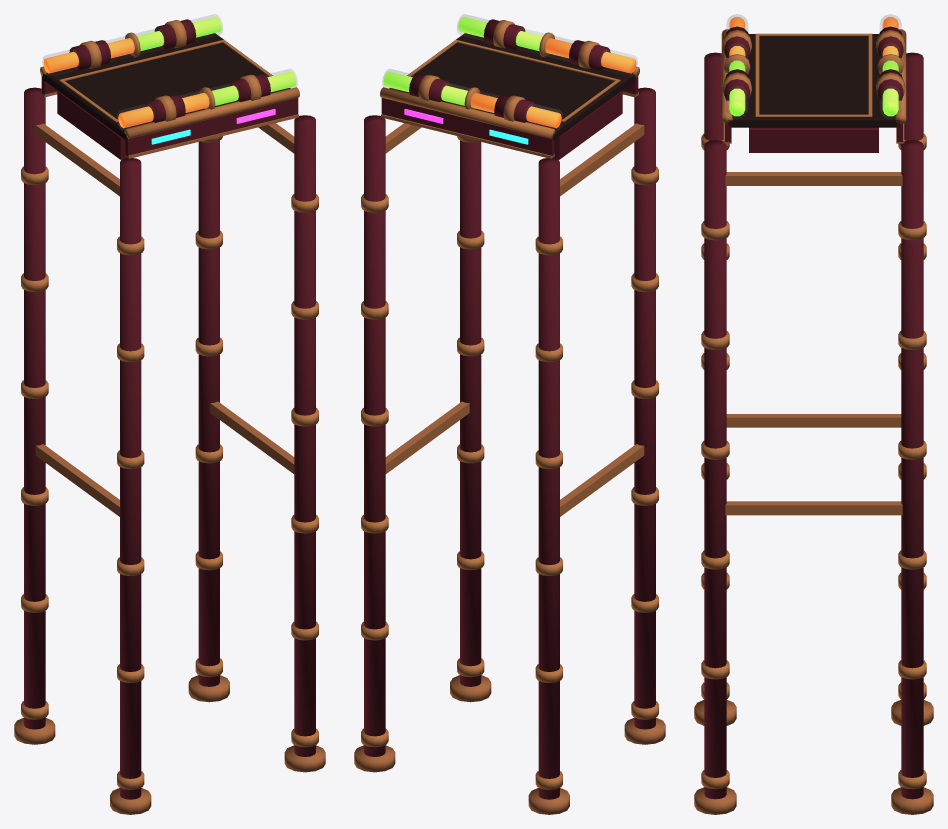
Rendered from Deck_Overpass_High_Span.glb.
3 views of the same model, side by side, from view 1: azimuth 30°, elevation 25°; view 2: azimuth 150°, elevation 25°; view 3: azimuth 270°, elevation 25° (orthographic). The views are drawn at different scales.
Visible parts, largest first — view 1: CP_Deck_Overpass_High_Span; view 2: CP_Deck_Overpass_High_Span; view 3: CP_Deck_Overpass_High_Span.
Boxes of the visible parts, box(x1,y1,x2,y2) form: CP_Deck_Overpass_High_Span: box(14, 14, 325, 814); CP_Deck_Overpass_High_Span: box(354, 14, 665, 814); CP_Deck_Overpass_High_Span: box(694, 14, 933, 814).
Bounding box in the file's own units: 4.94 × 15.49 × 4.74.
